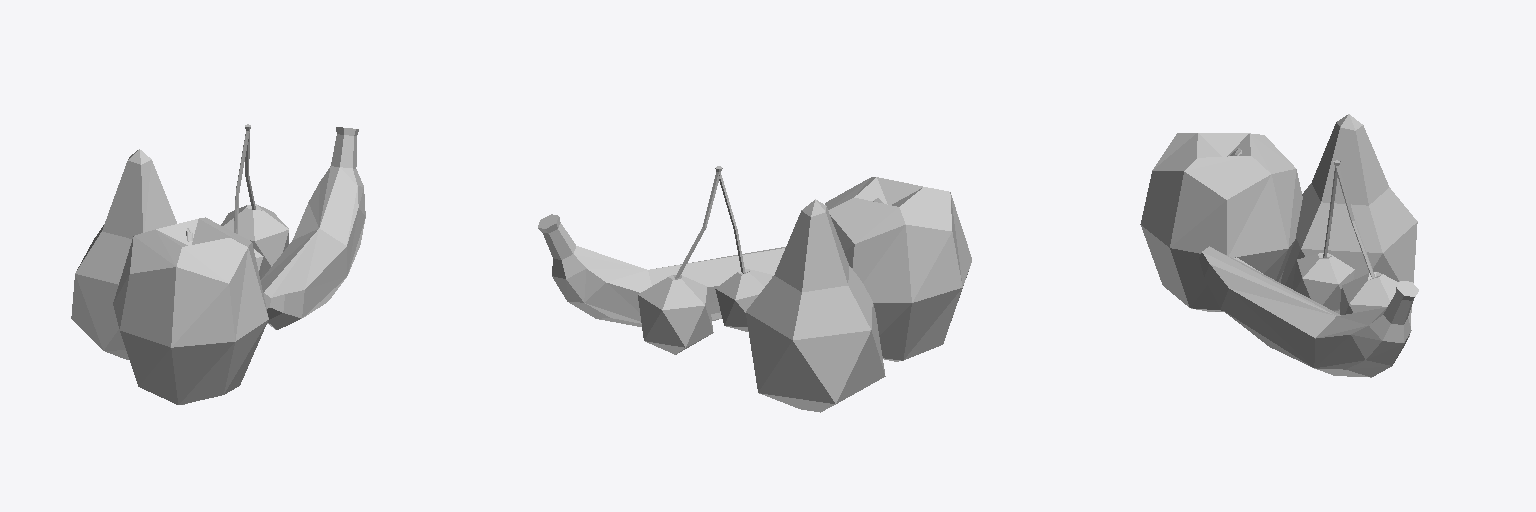
The model's file is lowpoly fruits.obj.
3 views of the same model, side by side, from view 1: azimuth 30°, elevation 25°; view 2: azimuth 150°, elevation 25°; view 3: azimuth 270°, elevation 25° (orthographic).
Parts seen in each view (by area): view 1: polySurface4; view 2: polySurface4; view 3: polySurface4.
Part boxes in pixels (bbox=[...]): polySurface4: bbox=[71, 124, 365, 404]; polySurface4: bbox=[538, 166, 971, 412]; polySurface4: bbox=[1140, 114, 1418, 377].
Bounding box in the file's own units: 2.75 × 1.66 × 2.01.